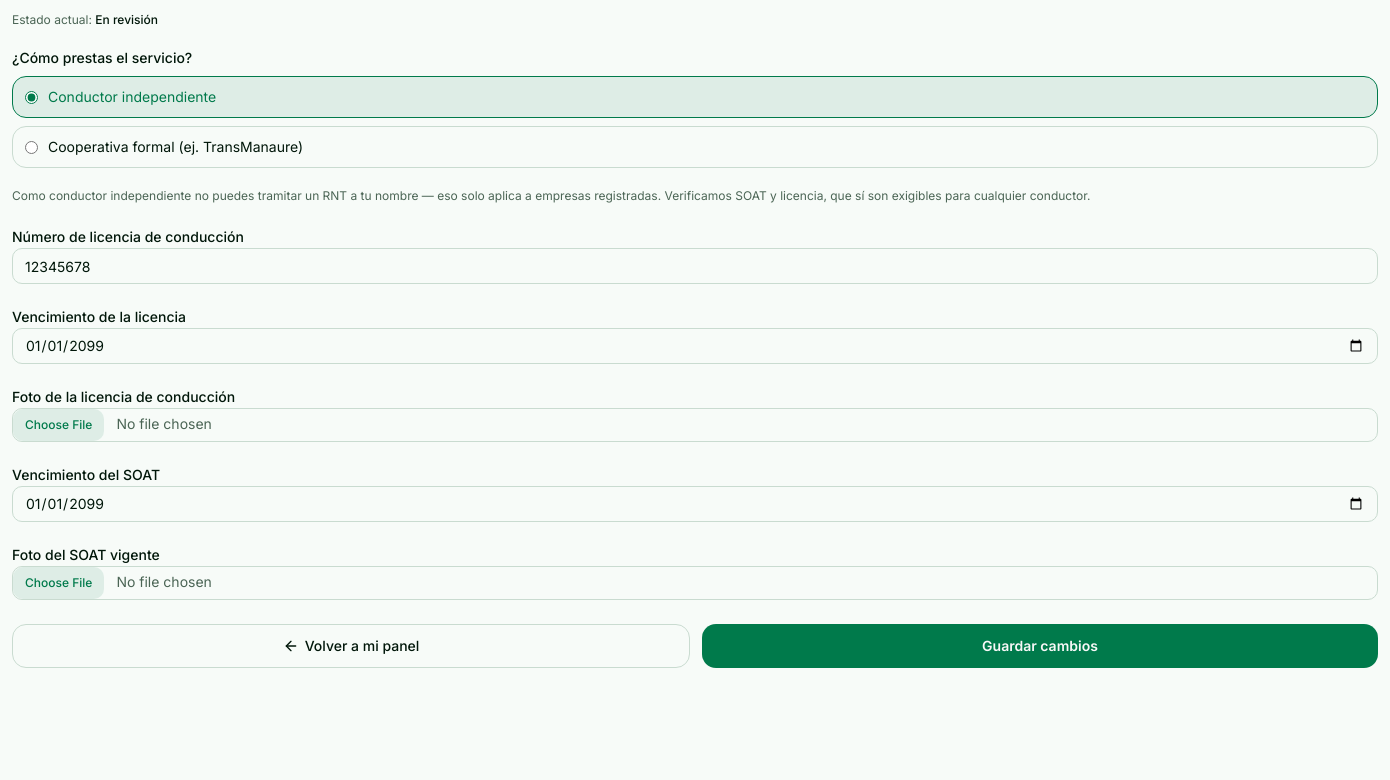
Scenario: EditTransporterProfileForm › warns that a document is required when switching tiers
The image size is (1390, 780).
Click the radio button labelled "Cooperativa formal (ej. TransManaure)" at (32, 147), box [25,140,38,154]
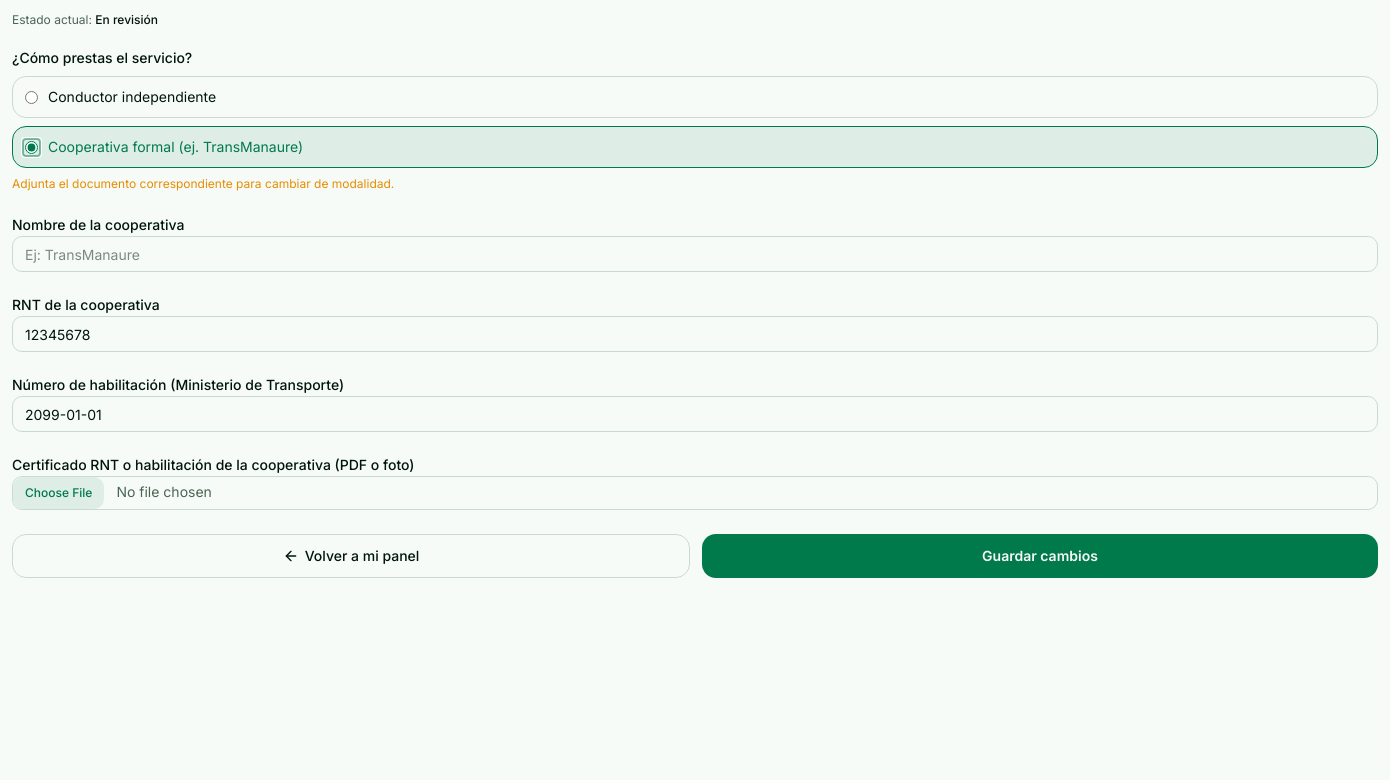
Result: the text "Adjunta el documento correspondiente" is shown at [12,176,394,191]
Result: the field labelled "Nombre de la cooperativa" is shown at [12,236,1378,272]
Result: the label labelled "Número de licencia de conducción" is gone
